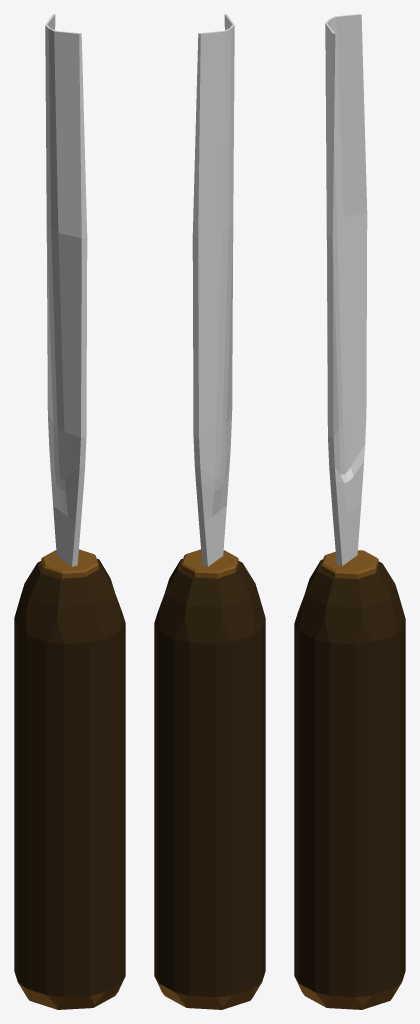
The model's file is G3_Prop_Lixa_2.fbx.
The picture shows the model from 3 angles, left to right: view 1: azimuth 30°, elevation 25°; view 2: azimuth 150°, elevation 25°; view 3: azimuth 330°, elevation 25°; orthographic projection.
Visible parts, largest first — view 1: Plane.001; view 2: Plane.001; view 3: Plane.001.
Boxes of the visible parts, <box> form: Plane.001: <box>14,14,125,1009</box>; Plane.001: <box>154,14,265,1009</box>; Plane.001: <box>294,14,405,1009</box>.
Size of the model in its own units: 68.12 by 658 by 68.12.
